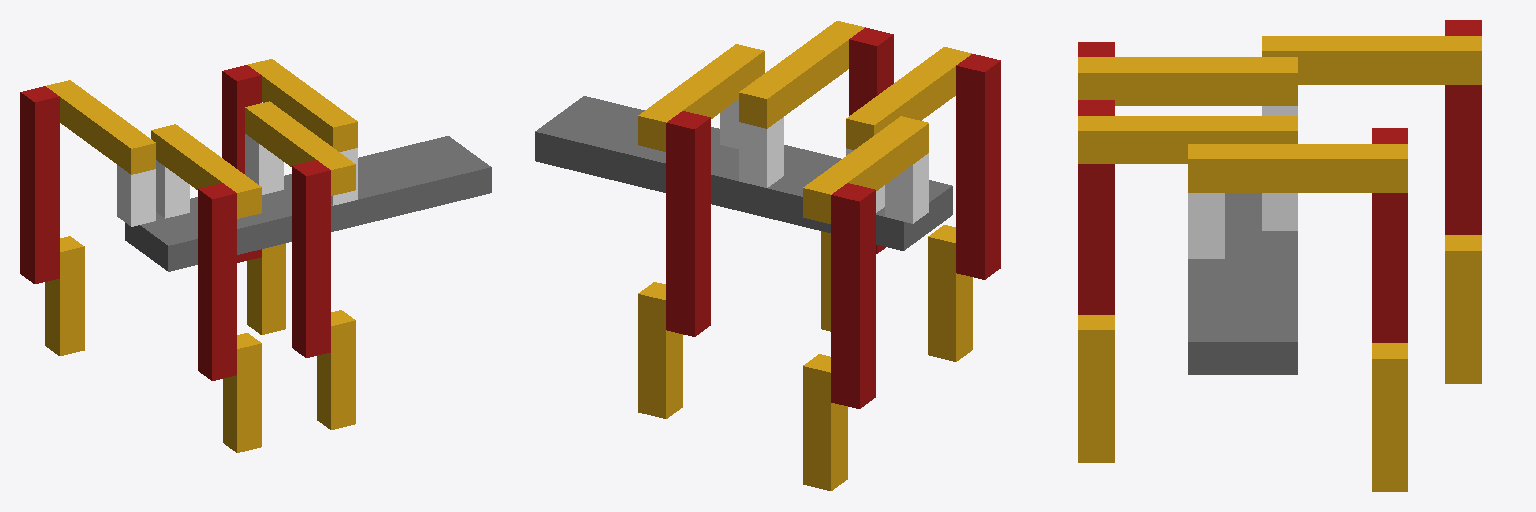
The robot description file, URDF, robot "v0":
<?xml version="1.0" encoding="utf-8"?>
<!-- =================================================================================== -->
<!-- |    This document was autogenerated by xacro from ../robots/v0variants/xacros/v0_4l_22.xacro | -->
<!-- |    EDITING THIS FILE BY HAND IS NOT RECOMMENDED                                 | -->
<!-- =================================================================================== -->
<robot name="v0">
  <material name="grey">
    <color rgba="0.5 0.5 0.5 1"/>
  </material>
  <material name="white">
    <color rgba="1 1 1 1"/>
  </material>
  <material name="yellow">
    <color rgba="0.91 0.7 0.14 1"/>
  </material>
  <material name="red">
    <color rgba="0.71 0.14 0.14 1"/>
  </material>
  <link name="body">
    <visual>
      <geometry>
        <box size="1.3 0.3 0.1"/>
      </geometry>
      <material name="grey"/>
      <origin rpy="0 0 0" xyz="0 0 0.7"/>
    </visual>
    <collision>
      <geometry>
        <box size="1.3 0.3 0.1"/>
      </geometry>
      <origin rpy="0 0 0" xyz="0 0 0.7"/>
    </collision>
    <inertial>
      <mass value="99.84"/>
      <inertia ixx="0.832" ixy="0.0" ixz="0.0" iyy="14.144" iyz="0.0" izz="14.8096"/>
    </inertial>
  </link>
  <link name="l1_segment_1">
    <visual>
      <geometry>
        <box size="0.1 0.1 0.2"/>
      </geometry>
      <material name="white"/>
      <origin rpy="0 0 0" xyz="0 0 0.1"/>
    </visual>
    <collision>
      <geometry>
        <box size="0.1 0.1 0.2"/>
      </geometry>
      <origin rpy="0 0 0" xyz="0 0 0.1"/>
    </collision>
    <inertial>
      <mass value="5.12"/>
      <inertia ixx="0.0213333333333" ixy="0.0" ixz="0.0" iyy="0.0213333333333" iyz="0.0" izz="0.00853333333333"/>
    </inertial>
  </link>
  <joint name="l1_base_to_joint_1" type="fixed">
    <parent link="body"/>
    <child link="l1_segment_1"/>
    <origin rpy="0 0 0" xyz="-0.6334476165147648 0.1 0.75"/>
  </joint>
  <link name="l1_segment_2_HIP">
    <visual>
      <geometry>
        <box size="0.1 0.6 0.1"/>
      </geometry>
      <material name="yellow"/>
      <origin rpy="0 0 0" xyz="0 0.25 0"/>
    </visual>
    <collision>
      <geometry>
        <box size="0.1 0.6 0.1"/>
      </geometry>
      <origin rpy="0 0 0" xyz="0 0.25 0"/>
    </collision>
    <inertial>
      <mass value="15.36"/>
      <inertia ixx="0.4736" ixy="0.0" ixz="0.0" iyy="0.0256" iyz="0.0" izz="0.4736"/>
    </inertial>
  </link>
  <joint name="l1_joint_1_to_2" type="revolute">
    <parent link="l1_segment_1"/>
    <child link="l1_segment_2_HIP"/>
    <origin rpy="0 0 0" xyz="0 0 0.25"/>
    <axis xyz="0.0 0.0 1.0"/>
    <limit effort="2048" lower="-1.2" upper="1.2" velocity="20"/>
  </joint>
  <link name="l1_segment_3_THIGH">
    <visual>
      <geometry>
        <box size="0.1 0.1 0.7"/>
      </geometry>
      <material name="red"/>
      <origin rpy="0 0 0" xyz="0 0 -0.3"/>
    </visual>
    <collision>
      <geometry>
        <box size="0.1 0.1 0.7"/>
      </geometry>
      <origin rpy="0 0 0" xyz="0 0 -0.3"/>
    </collision>
    <inertial>
      <mass value="17.92"/>
      <inertia ixx="0.746666666667" ixy="0.0" ixz="0.0" iyy="0.746666666667" iyz="0.0" izz="0.0298666666667"/>
    </inertial>
  </link>
  <joint name="l1_joint_2_to_3" type="revolute">
    <parent link="l1_segment_2_HIP"/>
    <child link="l1_segment_3_THIGH"/>
    <origin rpy="0 0 0" xyz="-0.1 0.5 0"/>
    <axis xyz="1.0 0.0 0.0"/>
    <limit effort="2048" lower="-0.2" upper="0.75" velocity="20"/>
  </joint>
  <link name="l1_segment_4_FOOT">
    <visual>
      <geometry>
        <box size="0.1 0.1 0.4"/>
      </geometry>
      <material name="yellow"/>
      <origin rpy="0 0 0" xyz="0 0 -0.2"/>
    </visual>
    <collision>
      <geometry>
        <box size="0.1 0.1 0.4"/>
      </geometry>
      <origin rpy="0 0 0" xyz="0 0 -0.2"/>
    </collision>
    <inertial>
      <mass value="10.24"/>
      <inertia ixx="0.145066666667" ixy="0.0" ixz="0.0" iyy="0.145066666667" iyz="0.0" izz="0.0170666666667"/>
    </inertial>
  </link>
  <joint name="l1_joint_3_to_4_FOOT" type="revolute">
    <parent link="l1_segment_3_THIGH"/>
    <child link="l1_segment_4_FOOT"/>
    <origin rpy="0 0 0" xyz="0.1 0 -0.55"/>
    <axis xyz="1.0 0.0 0.0"/>
    <limit effort="2048" lower="-0.2" upper="0.5" velocity="20"/>
  </joint>
  <link name="r2_segment_1">
    <visual>
      <geometry>
        <box size="0.1 0.1 0.2"/>
      </geometry>
      <material name="white"/>
      <origin rpy="0 0 0" xyz="0 0 0.1"/>
    </visual>
    <collision>
      <geometry>
        <box size="0.1 0.1 0.2"/>
      </geometry>
      <origin rpy="0 0 0" xyz="0 0 0.1"/>
    </collision>
    <inertial>
      <mass value="5.12"/>
      <inertia ixx="0.0213333333333" ixy="0.0" ixz="0.0" iyy="0.0213333333333" iyz="0.0" izz="0.00853333333333"/>
    </inertial>
  </link>
  <joint name="r2_base_to_joint_1" type="fixed">
    <parent link="body"/>
    <child link="r2_segment_1"/>
    <origin rpy="0 0 0" xyz="-0.11899593665221098 0.1 0.75"/>
  </joint>
  <link name="r2_segment_2_HIP">
    <visual>
      <geometry>
        <box size="0.1 0.6 0.1"/>
      </geometry>
      <material name="yellow"/>
      <origin rpy="0 0 0" xyz="0 -0.25 0"/>
    </visual>
    <collision>
      <geometry>
        <box size="0.1 0.6 0.1"/>
      </geometry>
      <origin rpy="0 0 0" xyz="0 -0.25 0"/>
    </collision>
    <inertial>
      <mass value="15.36"/>
      <inertia ixx="0.4736" ixy="0.0" ixz="0.0" iyy="0.0256" iyz="0.0" izz="0.4736"/>
    </inertial>
  </link>
  <joint name="r2_joint_1_to_2" type="revolute">
    <parent link="r2_segment_1"/>
    <child link="r2_segment_2_HIP"/>
    <origin rpy="0 0 0" xyz="0 0 0.25"/>
    <axis xyz="0.0 0.0 1.0"/>
    <limit effort="2048" lower="-1.2" upper="1.2" velocity="20"/>
  </joint>
  <link name="r2_segment_3_THIGH">
    <visual>
      <geometry>
        <box size="0.1 0.1 0.7"/>
      </geometry>
      <material name="red"/>
      <origin rpy="0 0 0" xyz="0 0 -0.3"/>
    </visual>
    <collision>
      <geometry>
        <box size="0.1 0.1 0.7"/>
      </geometry>
      <origin rpy="0 0 0" xyz="0 0 -0.3"/>
    </collision>
    <inertial>
      <mass value="17.92"/>
      <inertia ixx="0.746666666667" ixy="0.0" ixz="0.0" iyy="0.746666666667" iyz="0.0" izz="0.0298666666667"/>
    </inertial>
  </link>
  <joint name="r2_joint_2_to_3" type="revolute">
    <parent link="r2_segment_2_HIP"/>
    <child link="r2_segment_3_THIGH"/>
    <origin rpy="0 0 0" xyz="-0.1 -0.5 0"/>
    <axis xyz="1.0 0.0 0.0"/>
    <limit effort="2048" lower="-0.75" upper="0.2" velocity="20"/>
  </joint>
  <link name="r2_segment_4_FOOT">
    <visual>
      <geometry>
        <box size="0.1 0.1 0.4"/>
      </geometry>
      <material name="yellow"/>
      <origin rpy="0 0 0" xyz="0 0 -0.2"/>
    </visual>
    <collision>
      <geometry>
        <box size="0.1 0.1 0.4"/>
      </geometry>
      <origin rpy="0 0 0" xyz="0 0 -0.2"/>
    </collision>
    <inertial>
      <mass value="10.24"/>
      <inertia ixx="0.145066666667" ixy="0.0" ixz="0.0" iyy="0.145066666667" iyz="0.0" izz="0.0170666666667"/>
    </inertial>
  </link>
  <joint name="r2_joint_3_to_4_FOOT" type="revolute">
    <parent link="r2_segment_3_THIGH"/>
    <child link="r2_segment_4_FOOT"/>
    <origin rpy="0 0 0" xyz="0.1 0 -0.55"/>
    <axis xyz="1.0 0.0 0.0"/>
    <limit effort="2048" lower="-0.5" upper="0.2" velocity="20"/>
  </joint>
  <link name="l3_segment_1">
    <visual>
      <geometry>
        <box size="0.1 0.1 0.2"/>
      </geometry>
      <material name="white"/>
      <origin rpy="0 0 0" xyz="0 0 0.1"/>
    </visual>
    <collision>
      <geometry>
        <box size="0.1 0.1 0.2"/>
      </geometry>
      <origin rpy="0 0 0" xyz="0 0 0.1"/>
    </collision>
    <inertial>
      <mass value="5.12"/>
      <inertia ixx="0.0213333333333" ixy="0.0" ixz="0.0" iyy="0.0213333333333" iyz="0.0" izz="0.00853333333333"/>
    </inertial>
  </link>
  <joint name="l3_base_to_joint_1" type="fixed">
    <parent link="body"/>
    <child link="l3_segment_1"/>
    <origin rpy="0 0 0" xyz="0.06327529336431015 -0.1 0.75"/>
  </joint>
  <link name="l3_segment_2_HIP">
    <visual>
      <geometry>
        <box size="0.1 0.6 0.1"/>
      </geometry>
      <material name="yellow"/>
      <origin rpy="0 0 0" xyz="0 0.25 0"/>
    </visual>
    <collision>
      <geometry>
        <box size="0.1 0.6 0.1"/>
      </geometry>
      <origin rpy="0 0 0" xyz="0 0.25 0"/>
    </collision>
    <inertial>
      <mass value="15.36"/>
      <inertia ixx="0.4736" ixy="0.0" ixz="0.0" iyy="0.0256" iyz="0.0" izz="0.4736"/>
    </inertial>
  </link>
  <joint name="l3_joint_1_to_2" type="revolute">
    <parent link="l3_segment_1"/>
    <child link="l3_segment_2_HIP"/>
    <origin rpy="0 0 0" xyz="0 0 0.25"/>
    <axis xyz="0.0 0.0 1.0"/>
    <limit effort="2048" lower="-1.2" upper="1.2" velocity="20"/>
  </joint>
  <link name="l3_segment_3_THIGH">
    <visual>
      <geometry>
        <box size="0.1 0.1 0.7"/>
      </geometry>
      <material name="red"/>
      <origin rpy="0 0 0" xyz="0 0 -0.3"/>
    </visual>
    <collision>
      <geometry>
        <box size="0.1 0.1 0.7"/>
      </geometry>
      <origin rpy="0 0 0" xyz="0 0 -0.3"/>
    </collision>
    <inertial>
      <mass value="17.92"/>
      <inertia ixx="0.746666666667" ixy="0.0" ixz="0.0" iyy="0.746666666667" iyz="0.0" izz="0.0298666666667"/>
    </inertial>
  </link>
  <joint name="l3_joint_2_to_3" type="revolute">
    <parent link="l3_segment_2_HIP"/>
    <child link="l3_segment_3_THIGH"/>
    <origin rpy="0 0 0" xyz="-0.1 0.5 0"/>
    <axis xyz="1.0 0.0 0.0"/>
    <limit effort="2048" lower="-0.2" upper="0.75" velocity="20"/>
  </joint>
  <link name="l3_segment_4_FOOT">
    <visual>
      <geometry>
        <box size="0.1 0.1 0.4"/>
      </geometry>
      <material name="yellow"/>
      <origin rpy="0 0 0" xyz="0 0 -0.2"/>
    </visual>
    <collision>
      <geometry>
        <box size="0.1 0.1 0.4"/>
      </geometry>
      <origin rpy="0 0 0" xyz="0 0 -0.2"/>
    </collision>
    <inertial>
      <mass value="10.24"/>
      <inertia ixx="0.145066666667" ixy="0.0" ixz="0.0" iyy="0.145066666667" iyz="0.0" izz="0.0170666666667"/>
    </inertial>
  </link>
  <joint name="l3_joint_3_to_4_FOOT" type="revolute">
    <parent link="l3_segment_3_THIGH"/>
    <child link="l3_segment_4_FOOT"/>
    <origin rpy="0 0 0" xyz="0.1 0 -0.55"/>
    <axis xyz="1.0 0.0 0.0"/>
    <limit effort="2048" lower="-0.2" upper="0.5" velocity="20"/>
  </joint>
  <link name="r4_segment_1">
    <visual>
      <geometry>
        <box size="0.1 0.1 0.2"/>
      </geometry>
      <material name="white"/>
      <origin rpy="0 0 0" xyz="0 0 0.1"/>
    </visual>
    <collision>
      <geometry>
        <box size="0.1 0.1 0.2"/>
      </geometry>
      <origin rpy="0 0 0" xyz="0 0 0.1"/>
    </collision>
    <inertial>
      <mass value="5.12"/>
      <inertia ixx="0.0213333333333" ixy="0.0" ixz="0.0" iyy="0.0213333333333" iyz="0.0" izz="0.00853333333333"/>
    </inertial>
  </link>
  <joint name="r4_base_to_joint_1" type="fixed">
    <parent link="body"/>
    <child link="r4_segment_1"/>
    <origin rpy="0 0 0" xyz="-0.49718399909679145 0.1 0.75"/>
  </joint>
  <link name="r4_segment_2_HIP">
    <visual>
      <geometry>
        <box size="0.1 0.6 0.1"/>
      </geometry>
      <material name="yellow"/>
      <origin rpy="0 0 0" xyz="0 -0.25 0"/>
    </visual>
    <collision>
      <geometry>
        <box size="0.1 0.6 0.1"/>
      </geometry>
      <origin rpy="0 0 0" xyz="0 -0.25 0"/>
    </collision>
    <inertial>
      <mass value="15.36"/>
      <inertia ixx="0.4736" ixy="0.0" ixz="0.0" iyy="0.0256" iyz="0.0" izz="0.4736"/>
    </inertial>
  </link>
  <joint name="r4_joint_1_to_2" type="revolute">
    <parent link="r4_segment_1"/>
    <child link="r4_segment_2_HIP"/>
    <origin rpy="0 0 0" xyz="0 0 0.25"/>
    <axis xyz="0.0 0.0 1.0"/>
    <limit effort="2048" lower="-1.2" upper="1.2" velocity="20"/>
  </joint>
  <link name="r4_segment_3_THIGH">
    <visual>
      <geometry>
        <box size="0.1 0.1 0.7"/>
      </geometry>
      <material name="red"/>
      <origin rpy="0 0 0" xyz="0 0 -0.3"/>
    </visual>
    <collision>
      <geometry>
        <box size="0.1 0.1 0.7"/>
      </geometry>
      <origin rpy="0 0 0" xyz="0 0 -0.3"/>
    </collision>
    <inertial>
      <mass value="17.92"/>
      <inertia ixx="0.746666666667" ixy="0.0" ixz="0.0" iyy="0.746666666667" iyz="0.0" izz="0.0298666666667"/>
    </inertial>
  </link>
  <joint name="r4_joint_2_to_3" type="revolute">
    <parent link="r4_segment_2_HIP"/>
    <child link="r4_segment_3_THIGH"/>
    <origin rpy="0 0 0" xyz="-0.1 -0.5 0"/>
    <axis xyz="1.0 0.0 0.0"/>
    <limit effort="2048" lower="-0.75" upper="0.2" velocity="20"/>
  </joint>
  <link name="r4_segment_4_FOOT">
    <visual>
      <geometry>
        <box size="0.1 0.1 0.4"/>
      </geometry>
      <material name="yellow"/>
      <origin rpy="0 0 0" xyz="0 0 -0.2"/>
    </visual>
    <collision>
      <geometry>
        <box size="0.1 0.1 0.4"/>
      </geometry>
      <origin rpy="0 0 0" xyz="0 0 -0.2"/>
    </collision>
    <inertial>
      <mass value="10.24"/>
      <inertia ixx="0.145066666667" ixy="0.0" ixz="0.0" iyy="0.145066666667" iyz="0.0" izz="0.0170666666667"/>
    </inertial>
  </link>
  <joint name="r4_joint_3_to_4_FOOT" type="revolute">
    <parent link="r4_segment_3_THIGH"/>
    <child link="r4_segment_4_FOOT"/>
    <origin rpy="0 0 0" xyz="0.1 0 -0.55"/>
    <axis xyz="1.0 0.0 0.0"/>
    <limit effort="2048" lower="-0.5" upper="0.2" velocity="20"/>
  </joint>
</robot>

--- Facts derived from the render (not from the file) ---
3 views of the same robot in one strip: view 1: azimuth 30°, elevation 25°; view 2: azimuth 150°, elevation 25°; view 3: azimuth 270°, elevation 25° (orthographic).
Model v0 with 17 links and 16 joints (12 revolute, 4 fixed), rooted at body, posed every joint at zero.
Links seen in each view (by area): view 1: body, l1_segment_3_THIGH, r4_segment_3_THIGH, r2_segment_3_THIGH, l1_segment_2_HIP, r2_segment_2_HIP, r4_segment_2_HIP, l3_segment_2_HIP, l1_segment_4_FOOT, r4_segment_4_FOOT, r2_segment_4_FOOT, l3_segment_4_FOOT (+4 smaller); view 2: body, l3_segment_3_THIGH, r4_segment_3_THIGH, l1_segment_3_THIGH, r2_segment_2_HIP, l1_segment_2_HIP, l3_segment_2_HIP, r4_segment_2_HIP, l3_segment_4_FOOT, l1_segment_4_FOOT, r4_segment_4_FOOT, r2_segment_3_THIGH (+4 smaller); view 3: body, l3_segment_2_HIP, r4_segment_2_HIP, l1_segment_2_HIP, r2_segment_2_HIP, r2_segment_3_THIGH, l1_segment_3_THIGH, l3_segment_3_THIGH, l1_segment_4_FOOT, r2_segment_4_FOOT, l3_segment_4_FOOT, l3_segment_1 (+2 smaller).
Link boxes in pixels (left/top/right/bottom): body: left=125, top=136, right=491, bottom=271; l1_segment_3_THIGH: left=20, top=86, right=59, bottom=283; r4_segment_3_THIGH: left=198, top=183, right=236, bottom=380; r2_segment_3_THIGH: left=292, top=160, right=330, bottom=357; l1_segment_2_HIP: left=46, top=80, right=155, bottom=174; r2_segment_2_HIP: left=245, top=101, right=355, bottom=195; r4_segment_2_HIP: left=151, top=124, right=261, bottom=218; l3_segment_2_HIP: left=248, top=59, right=357, bottom=151; l1_segment_4_FOOT: left=45, top=236, right=84, bottom=355; r4_segment_4_FOOT: left=223, top=333, right=261, bottom=452; r2_segment_4_FOOT: left=317, top=310, right=355, bottom=429; l3_segment_4_FOOT: left=247, top=243, right=285, bottom=334; body: left=535, top=96, right=952, bottom=250; l3_segment_3_THIGH: left=666, top=111, right=710, bottom=336; r4_segment_3_THIGH: left=956, top=54, right=1000, bottom=279; l1_segment_3_THIGH: left=831, top=183, right=875, bottom=408; r2_segment_2_HIP: left=739, top=21, right=864, bottom=128; l1_segment_2_HIP: left=803, top=116, right=928, bottom=223; l3_segment_2_HIP: left=638, top=44, right=764, bottom=151; r4_segment_2_HIP: left=846, top=47, right=971, bottom=149; l3_segment_4_FOOT: left=638, top=282, right=682, bottom=418; l1_segment_4_FOOT: left=803, top=354, right=847, bottom=490; r4_segment_4_FOOT: left=928, top=225, right=972, bottom=361; r2_segment_3_THIGH: left=849, top=27, right=893, bottom=253; body: left=1188, top=193, right=1297, bottom=374; l3_segment_2_HIP: left=1188, top=144, right=1407, bottom=192; r4_segment_2_HIP: left=1078, top=57, right=1297, bottom=105; l1_segment_2_HIP: left=1262, top=36, right=1481, bottom=84; r2_segment_2_HIP: left=1078, top=116, right=1297, bottom=163; r2_segment_3_THIGH: left=1078, top=100, right=1114, bottom=314; l1_segment_3_THIGH: left=1445, top=20, right=1481, bottom=234; l3_segment_3_THIGH: left=1372, top=128, right=1407, bottom=342; l1_segment_4_FOOT: left=1445, top=235, right=1481, bottom=383; r2_segment_4_FOOT: left=1078, top=315, right=1114, bottom=462; l3_segment_4_FOOT: left=1372, top=343, right=1407, bottom=491; l3_segment_1: left=1188, top=193, right=1224, bottom=258.
Bounding box of the posed robot: 1.43 × 1.1 × 1 m (x, y, z).
Geometry: primitives only (box / cylinder / sphere), no mesh files.